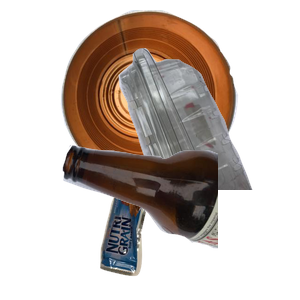glass: (60, 142, 300, 300)
metal: (58, 10, 289, 186)
plastic: (71, 45, 300, 225)
trash: (97, 152, 248, 300)
